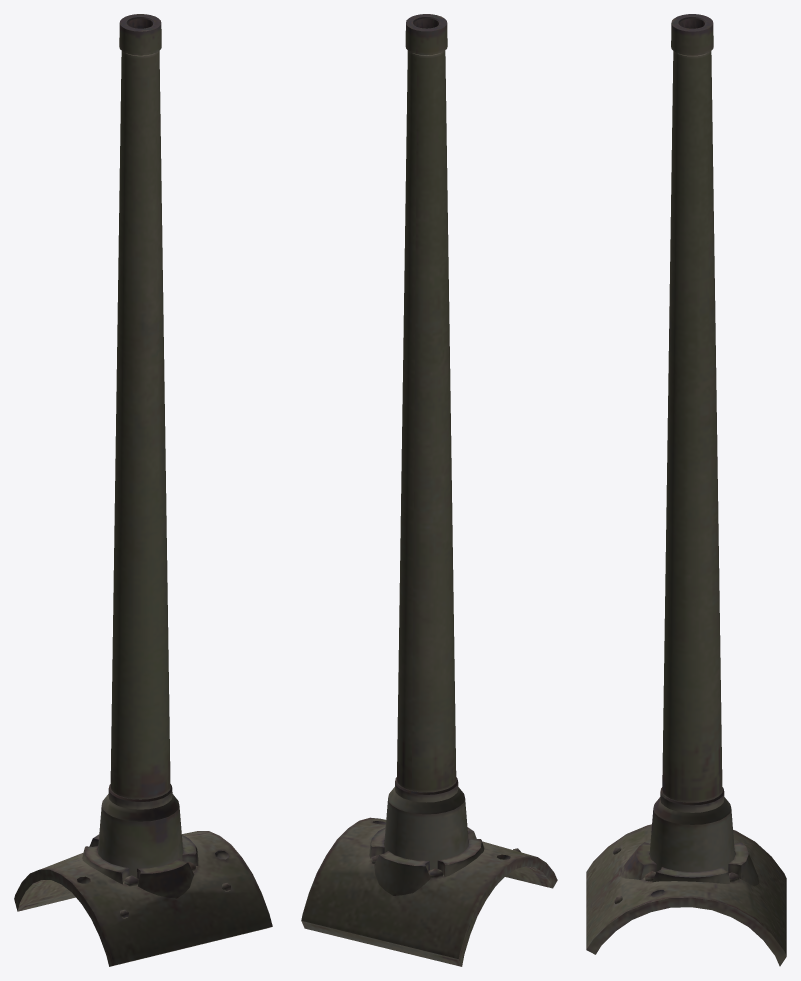
Rendered from Gun_01.glb.
The picture shows the model from 3 angles, left to right: view 1: azimuth 30°, elevation 25°; view 2: azimuth 150°, elevation 25°; view 3: azimuth 270°, elevation 25°; orthographic projection.
Parts seen in each view (by area): view 1: set_0_group_0; view 2: set_0_group_0; view 3: set_0_group_0.
Boxes of the visible parts, left/top/right/bottom form: set_0_group_0: left=14, top=14, right=272, bottom=966; set_0_group_0: left=301, top=14, right=557, bottom=966; set_0_group_0: left=586, top=14, right=786, bottom=966.
Bounding box in the file's own units: 0.61 × 3.31 × 0.6642.
Materials: 1 (1 with a texture image).
